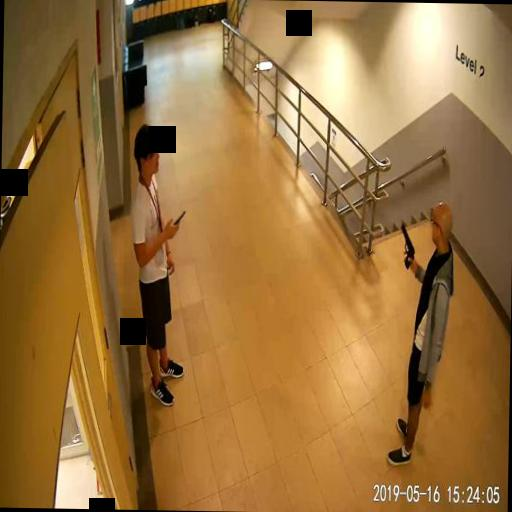Handgun: (398, 220, 414, 268)
